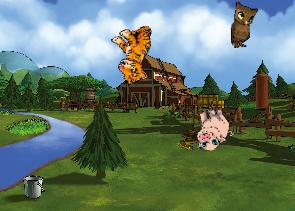owl: (230, 1, 259, 48)
pig: (188, 103, 235, 152)
tiger: (105, 20, 166, 86)
